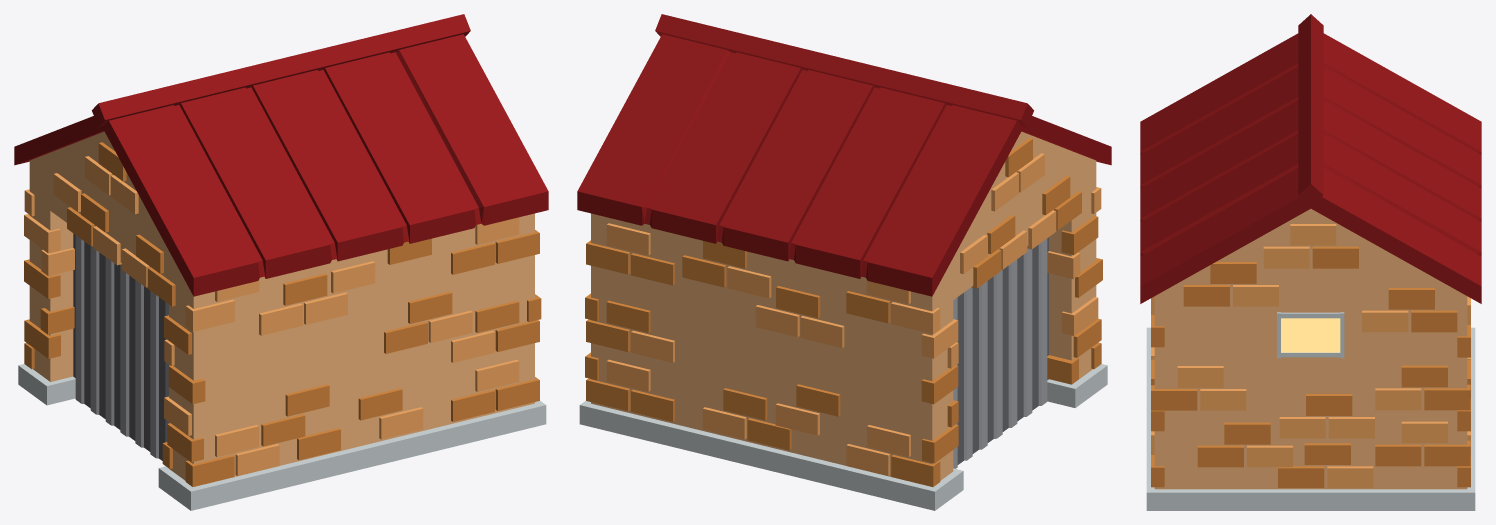
Rendered from SM_Garrage_1.fbx.
The picture shows the model from 3 angles, left to right: view 1: azimuth 30°, elevation 25°; view 2: azimuth 150°, elevation 25°; view 3: azimuth 270°, elevation 25°; orthographic projection. The views are drawn at different scales.
Visible parts, largest first — view 1: SM_Garrage_1_LOD0; view 2: SM_Garrage_1_LOD0; view 3: SM_Garrage_1_LOD0.
Part boxes in pixels (x1,y1,x2,y2): SM_Garrage_1_LOD0: (14, 14, 548, 510); SM_Garrage_1_LOD0: (577, 14, 1111, 510); SM_Garrage_1_LOD0: (1140, 14, 1481, 510).
Bounding box in the file's own units: 450 × 382 × 407.
Materials: 1 (1 with a texture image).
